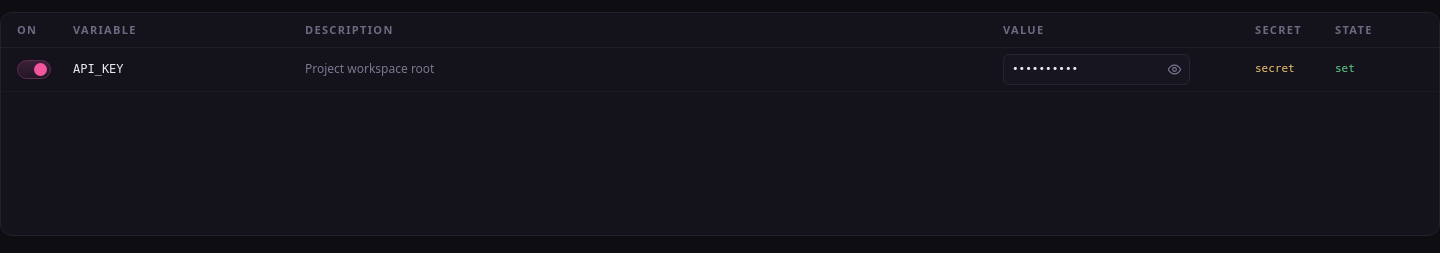
Environment console presentation › uses an accessible eye control to reveal and hide an edited secret
This screenshot has width=1440, height=253.
Click the button named "Show API_KEY secret" at (1174, 70), box [1162,58,1186,82]
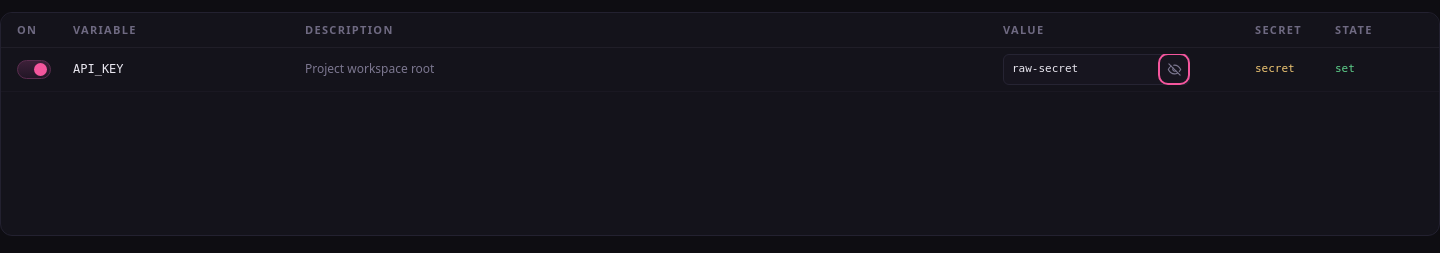
Expected: the field named "API_KEY value" shows its text, [1003,54,1190,85]
Click the button named "Hide API_KEY secret" at (1174, 70), box [1162,58,1186,82]
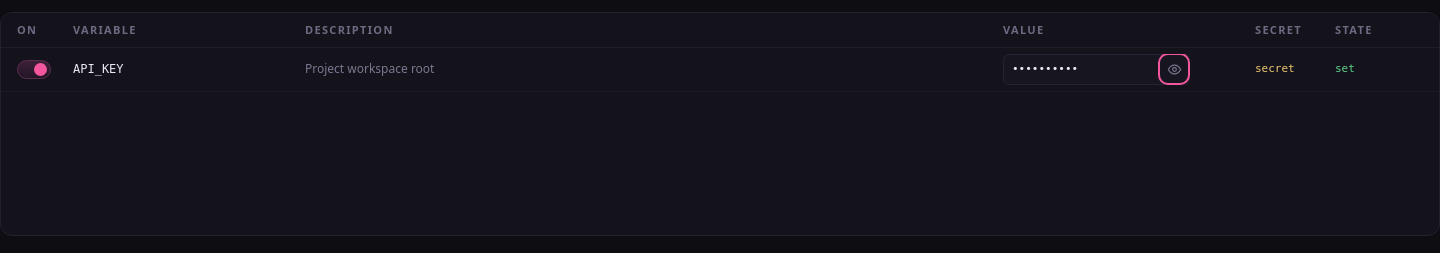
Expected: the password field named "API_KEY value" hides its text, [1003,54,1190,85]
